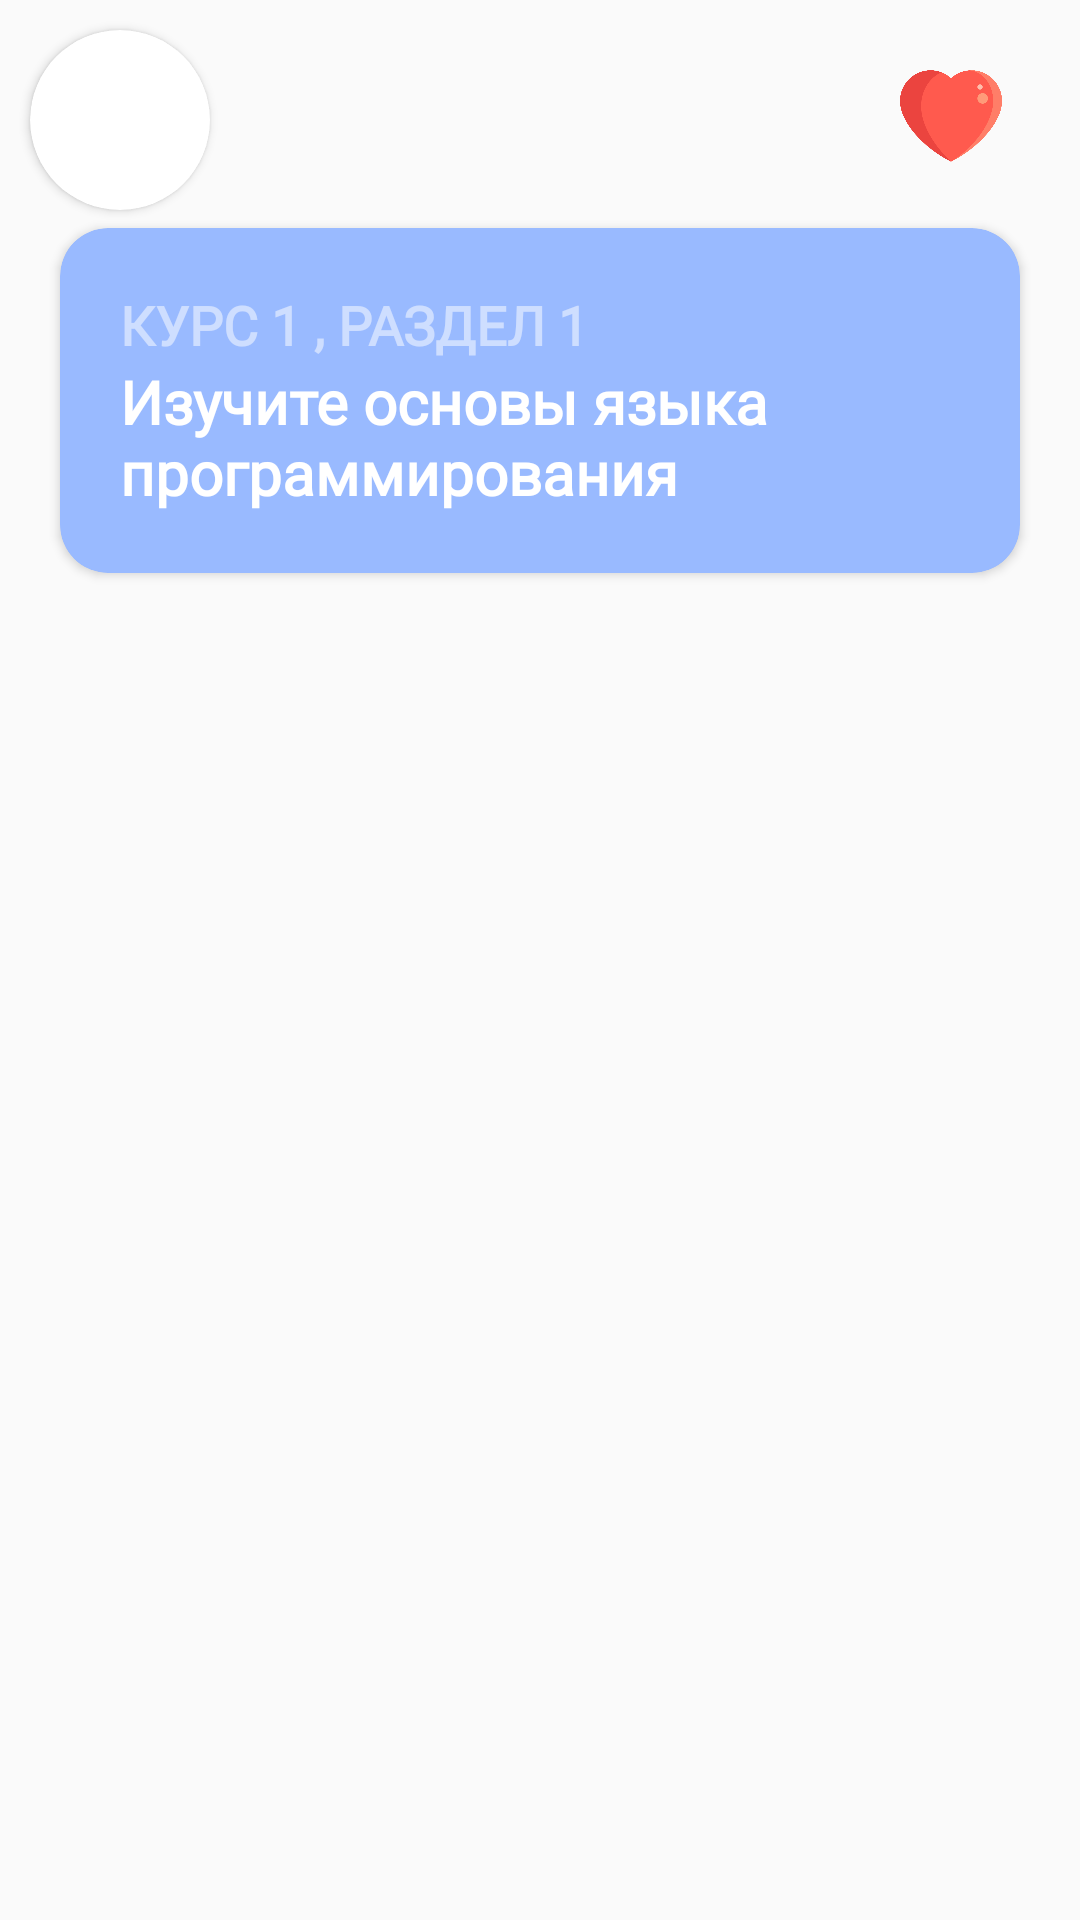

Icons on this 1080px x 1920px Android screen, each with its box as bbox=(x1, y1, x2, y2):
heart: bbox=(900, 70, 1002, 162)
